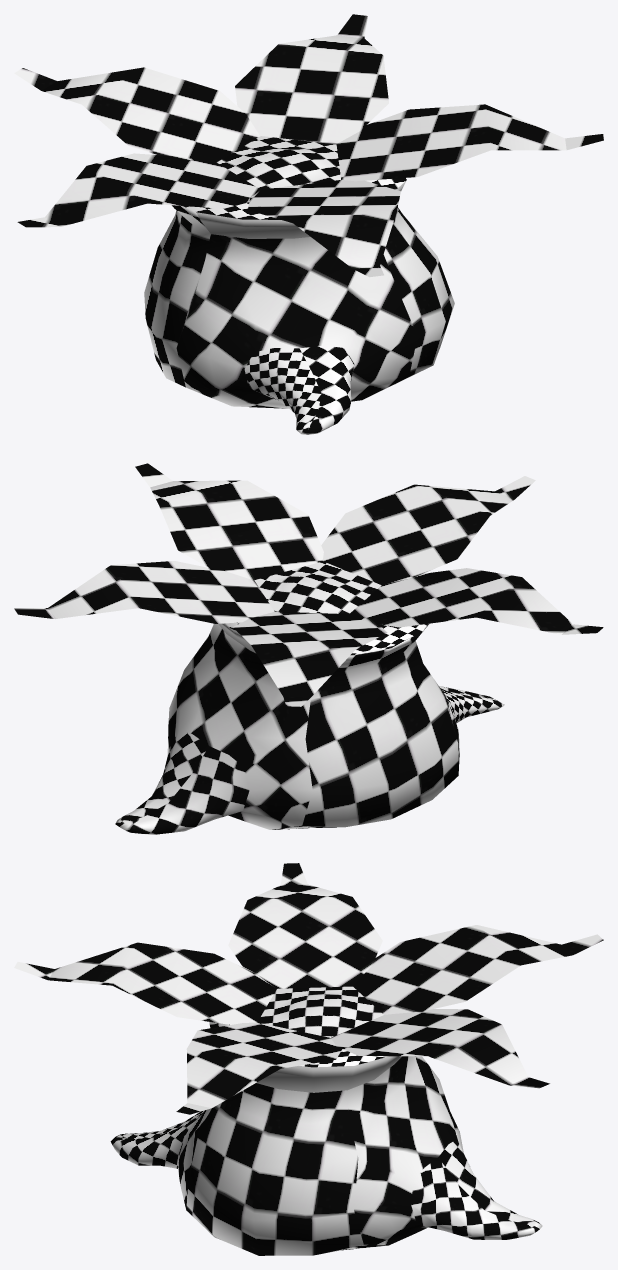
File: FlowerCactus.fbx
The picture shows the model from 3 angles, top to bottom: view 1: azimuth 30°, elevation 25°; view 2: azimuth 150°, elevation 25°; view 3: azimuth 270°, elevation 25°; orthographic projection. The views are drawn at different scales.
Parts seen in each view (by area): view 1: StumpCactus1; view 2: StumpCactus1; view 3: StumpCactus1.
Boxes of the visible parts, bbox=[...] form: StumpCactus1: bbox=[14, 14, 603, 434]; StumpCactus1: bbox=[14, 463, 603, 834]; StumpCactus1: bbox=[14, 863, 603, 1255].
Bounding box in the file's own units: 1.62 × 0.6915 × 1.6.
